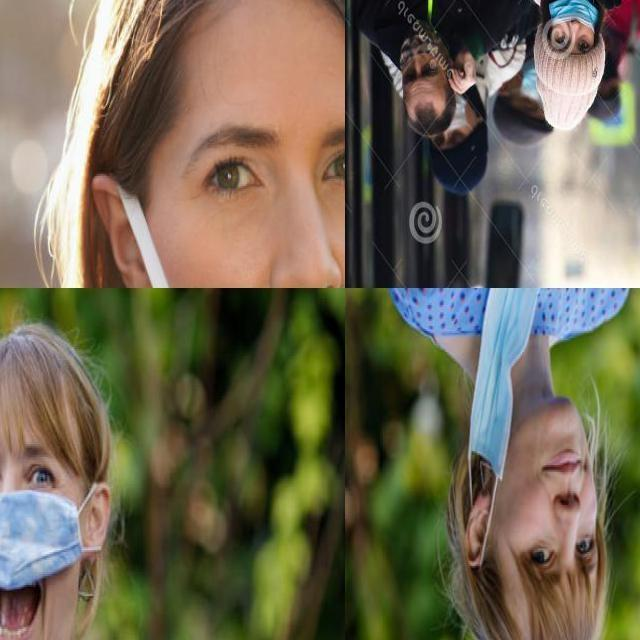hairnet: (470, 394, 599, 537), (0, 485, 104, 639), (551, 0, 595, 48)
